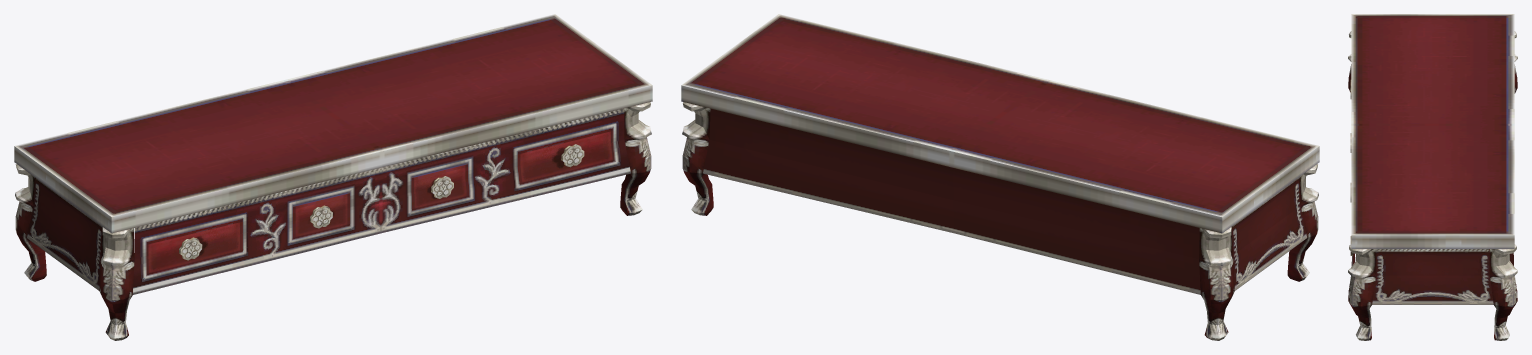
The model's file is furni_0201108_02.FBX.
3 renders of one model, left to right at view 1: azimuth 30°, elevation 25°; view 2: azimuth 150°, elevation 25°; view 3: azimuth 270°, elevation 25°, orthographic. The views are drawn at different scales.
Visible parts, largest first — view 1: furni_0201108_02; view 2: furni_0201108_02; view 3: furni_0201108_02.
Boxes of the visible parts, left/top/right/bottom form: furni_0201108_02: left=14, top=14, right=652, bottom=340; furni_0201108_02: left=681, top=14, right=1319, bottom=340; furni_0201108_02: left=1348, top=14, right=1517, bottom=340.
Bounding box in the file's own units: 223 × 50.32 × 71.33.
Materials: 1 (1 with a texture image).
